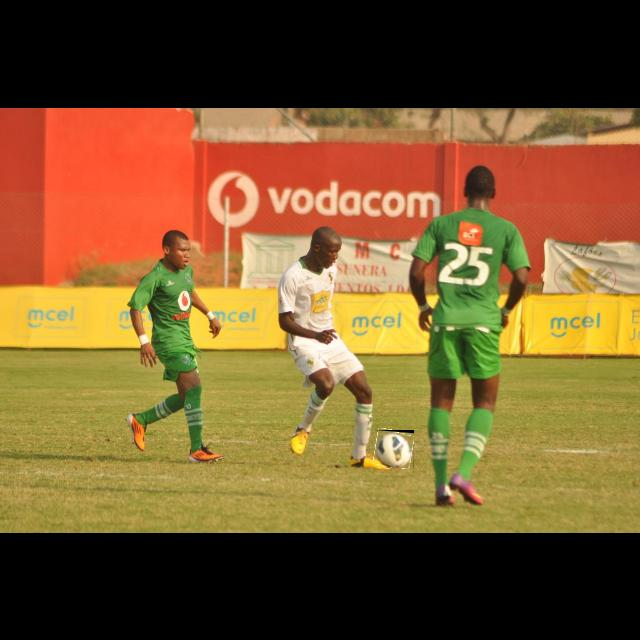Football: (374, 430, 414, 468)
